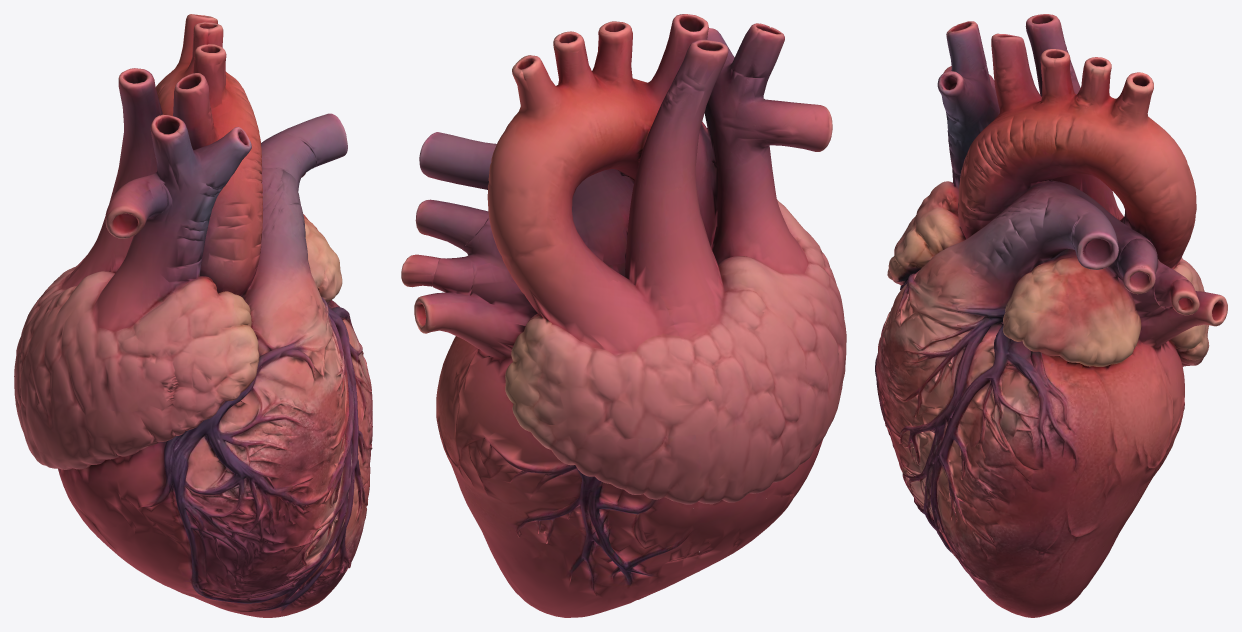
The model's file is heart.glb.
The picture shows the model from 3 angles, left to right: view 1: azimuth 30°, elevation 25°; view 2: azimuth 150°, elevation 25°; view 3: azimuth 270°, elevation 25°; orthographic projection. The views are drawn at different scales.
Parts seen in each view (by area): view 1: tripo_node_9c16954f-d29a-4a4b-baf4-ba02eda23201; view 2: tripo_node_9c16954f-d29a-4a4b-baf4-ba02eda23201; view 3: tripo_node_9c16954f-d29a-4a4b-baf4-ba02eda23201.
Part boxes in pixels (left/top/right/bottom): tripo_node_9c16954f-d29a-4a4b-baf4-ba02eda23201: left=14, top=14, right=372, bottom=617; tripo_node_9c16954f-d29a-4a4b-baf4-ba02eda23201: left=401, top=14, right=846, bottom=617; tripo_node_9c16954f-d29a-4a4b-baf4-ba02eda23201: left=875, top=14, right=1227, bottom=617.
Bounding box in the file's own units: 0.5966 × 0.9803 × 0.5843.
1 material, 1 textured.
